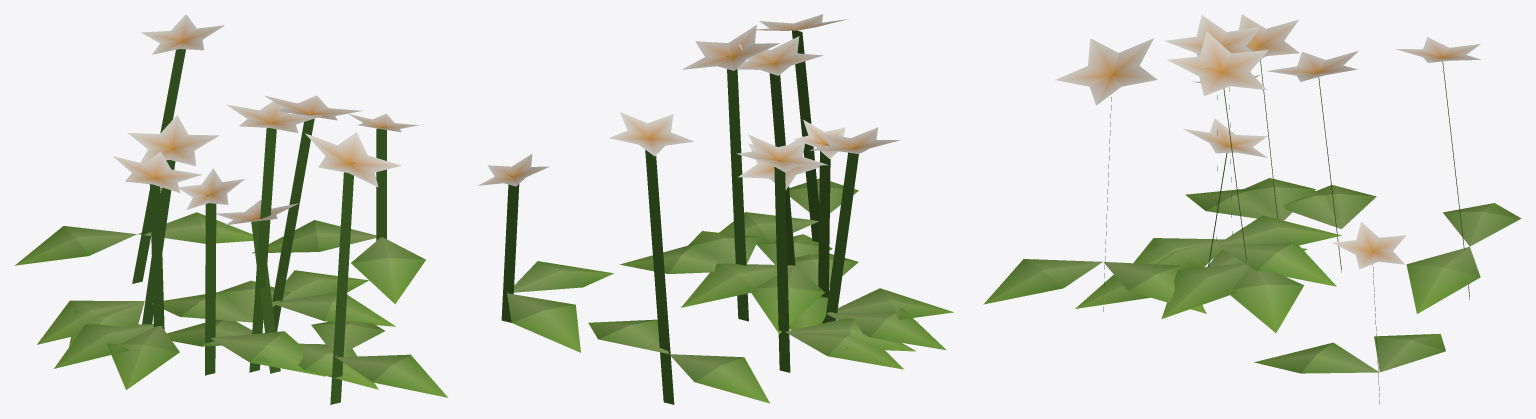
The model's file is flowers_white.glb.
The picture shows the model from 3 angles, left to right: view 1: azimuth 30°, elevation 25°; view 2: azimuth 150°, elevation 25°; view 3: azimuth 270°, elevation 25°; orthographic projection. The views are drawn at different scales.
Parts seen in each view (by area): view 1: flowers_white_leaf; view 2: flowers_white_leaf; view 3: flowers_white_leaf.
Boxes of the visible parts, x1=… form: flowers_white_leaf: x1=15, y1=14, x2=447, y2=404; flowers_white_leaf: x1=478, y1=14, x2=953, y2=404; flowers_white_leaf: x1=983, y1=14, x2=1521, y2=404.
Bounding box in the file's own units: 0.6218 × 0.377 × 0.6704.
